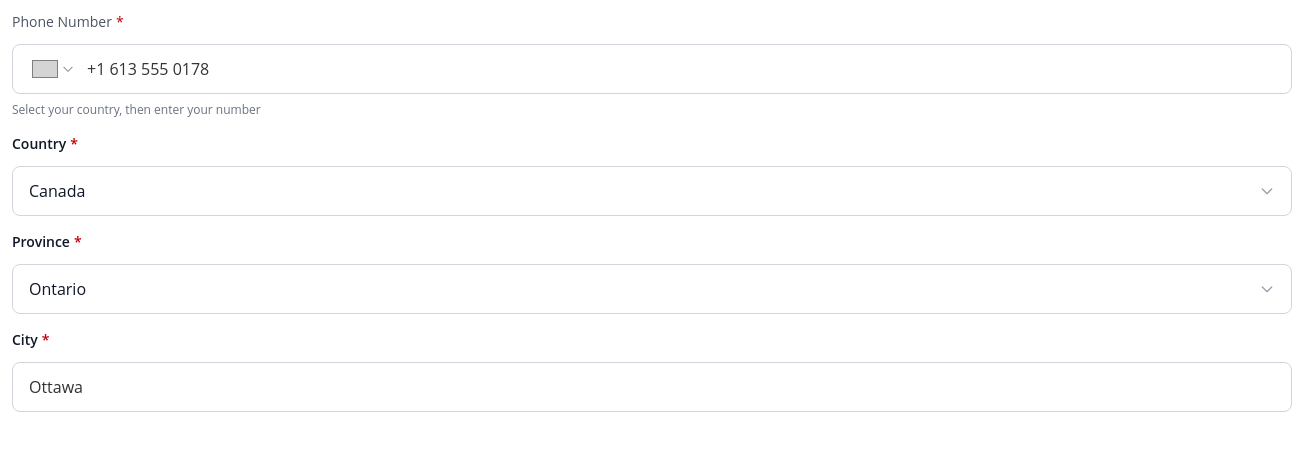
it: ContactInfoEditForm › onDataChange › should validate a field live as the user edits it
Clear the field labelled "City*" at [652, 387], box [12,362,1292,412]
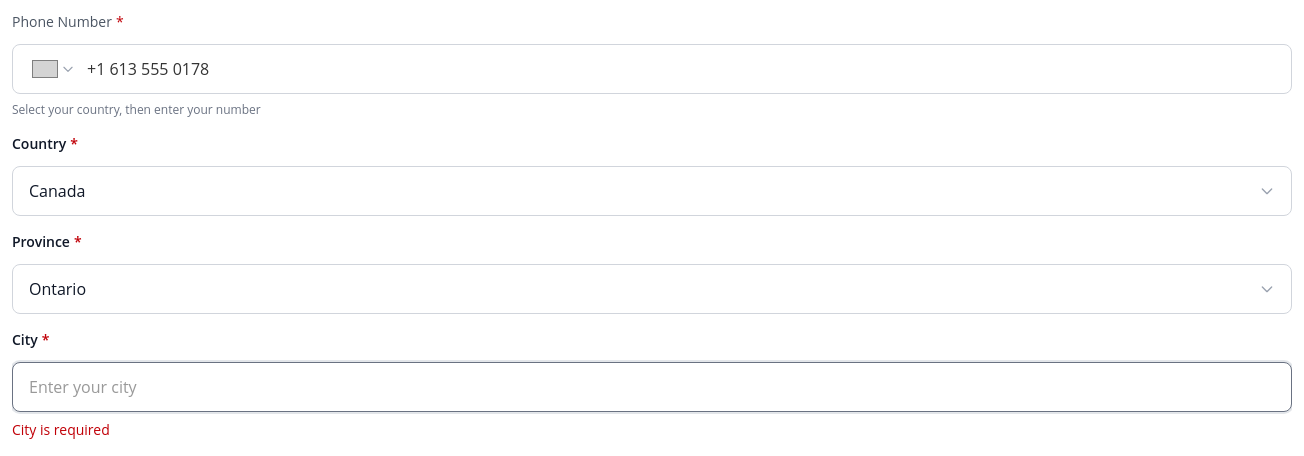
Now the text "City is required" is shown, box [12,420,110,439]
